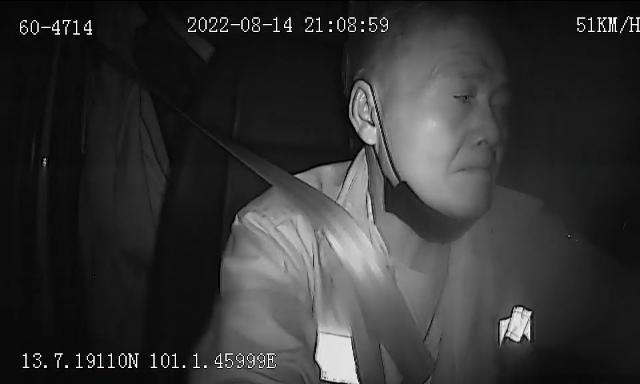SafeDriving: (445, 77, 480, 109)
Seatbelt: (224, 140, 438, 384)
